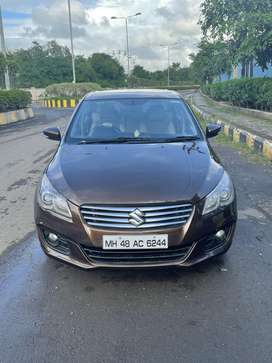MH48AC6244: (103, 234, 168, 249)
